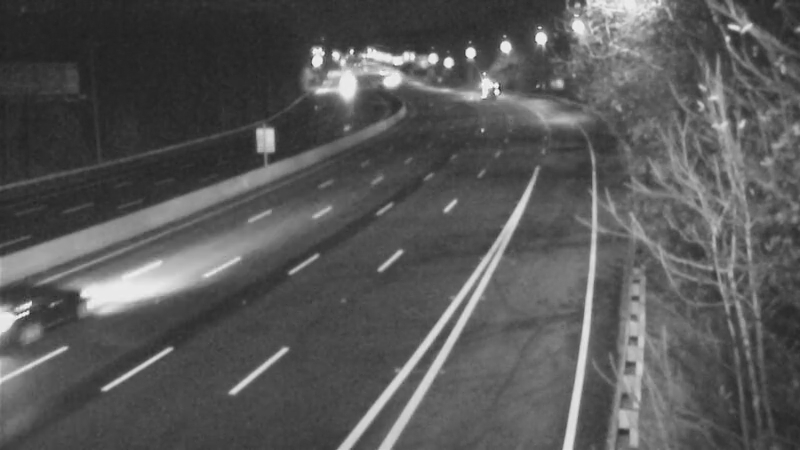vehicle: (1, 252, 93, 362), (361, 58, 411, 108), (466, 62, 516, 112), (320, 61, 370, 111)
